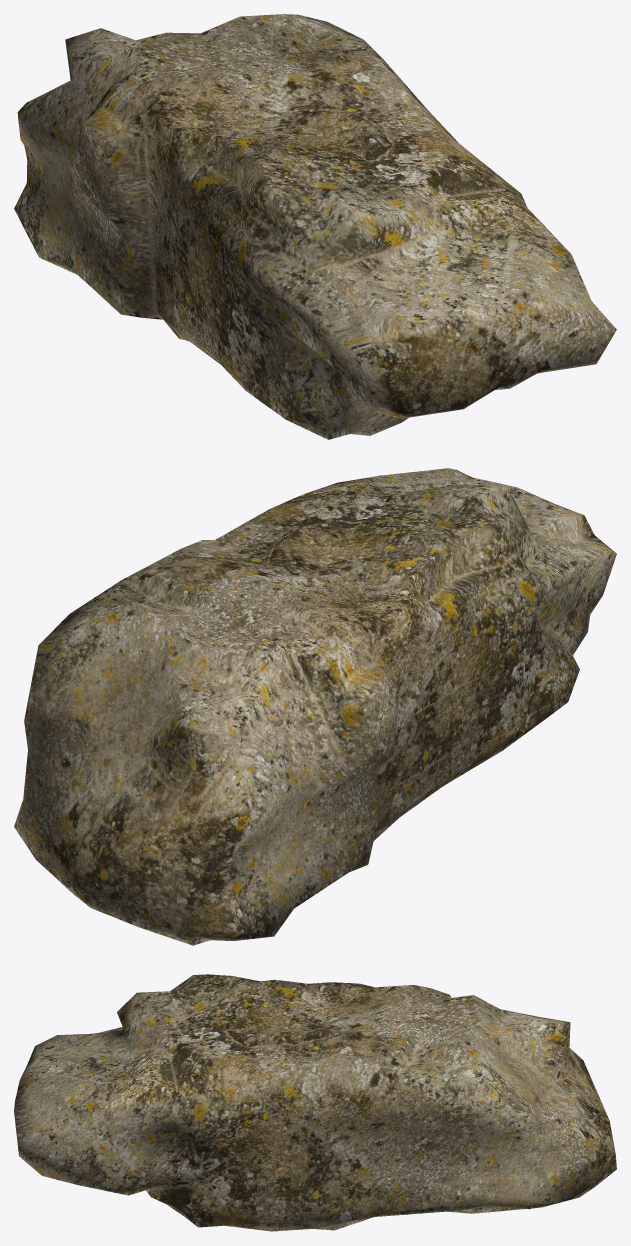
The model's file is roca4.obj.
The picture shows the model from 3 angles, top to bottom: view 1: azimuth 30°, elevation 25°; view 2: azimuth 150°, elevation 25°; view 3: azimuth 270°, elevation 25°; orthographic projection. The views are drawn at different scales.
Visible parts, largest first — view 1: Rock_9; view 2: Rock_9; view 3: Rock_9.
Part boxes in pixels (left/top/right/bottom): Rock_9: left=14, top=14, right=616, bottom=439; Rock_9: left=14, top=468, right=616, bottom=945; Rock_9: left=14, top=974, right=616, bottom=1231.
Size of the model in its own units: 2.6 by 2.05 by 6.13.
1 material, 1 textured.
